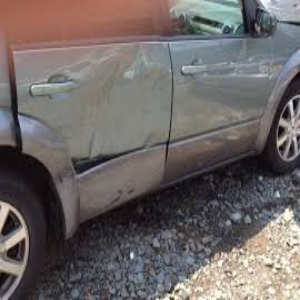door: (79, 59, 228, 187)
